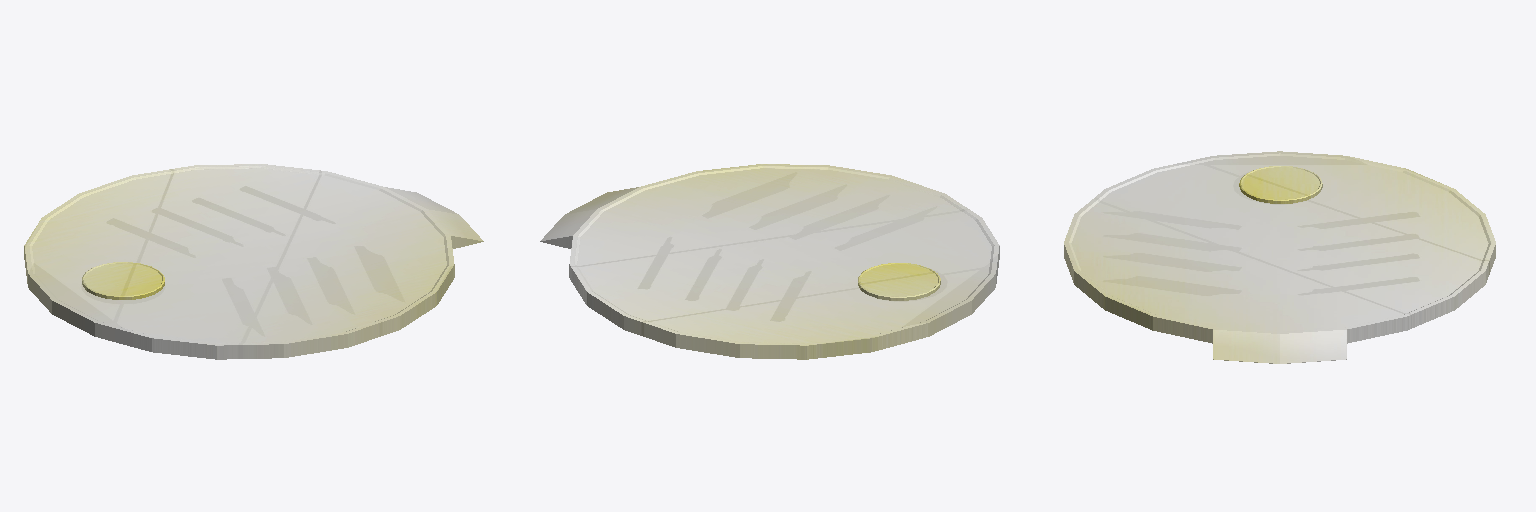
3 renders of one model, left to right at view 1: azimuth 30°, elevation 25°; view 2: azimuth 150°, elevation 25°; view 3: azimuth 270°, elevation 25°, orthographic.
Visible parts, largest first — view 1: stage:pCylinder17 stage:textureBakeSet2 stage:polySurface1; view 2: stage:pCylinder17 stage:textureBakeSet2 stage:polySurface1; view 3: stage:pCylinder17 stage:textureBakeSet2 stage:polySurface1.
Boxes of the visible parts, x1=… form: stage:pCylinder17 stage:textureBakeSet2 stage:polySurface1: x1=24, y1=164, x2=483, y2=359; stage:pCylinder17 stage:textureBakeSet2 stage:polySurface1: x1=540, y1=164, x2=999, y2=359; stage:pCylinder17 stage:textureBakeSet2 stage:polySurface1: x1=1064, y1=151, x2=1495, y2=363.
Size of the model in its own units: 11.28 by 0.4652 by 10.36.
Materials: 1 (1 with a texture image).